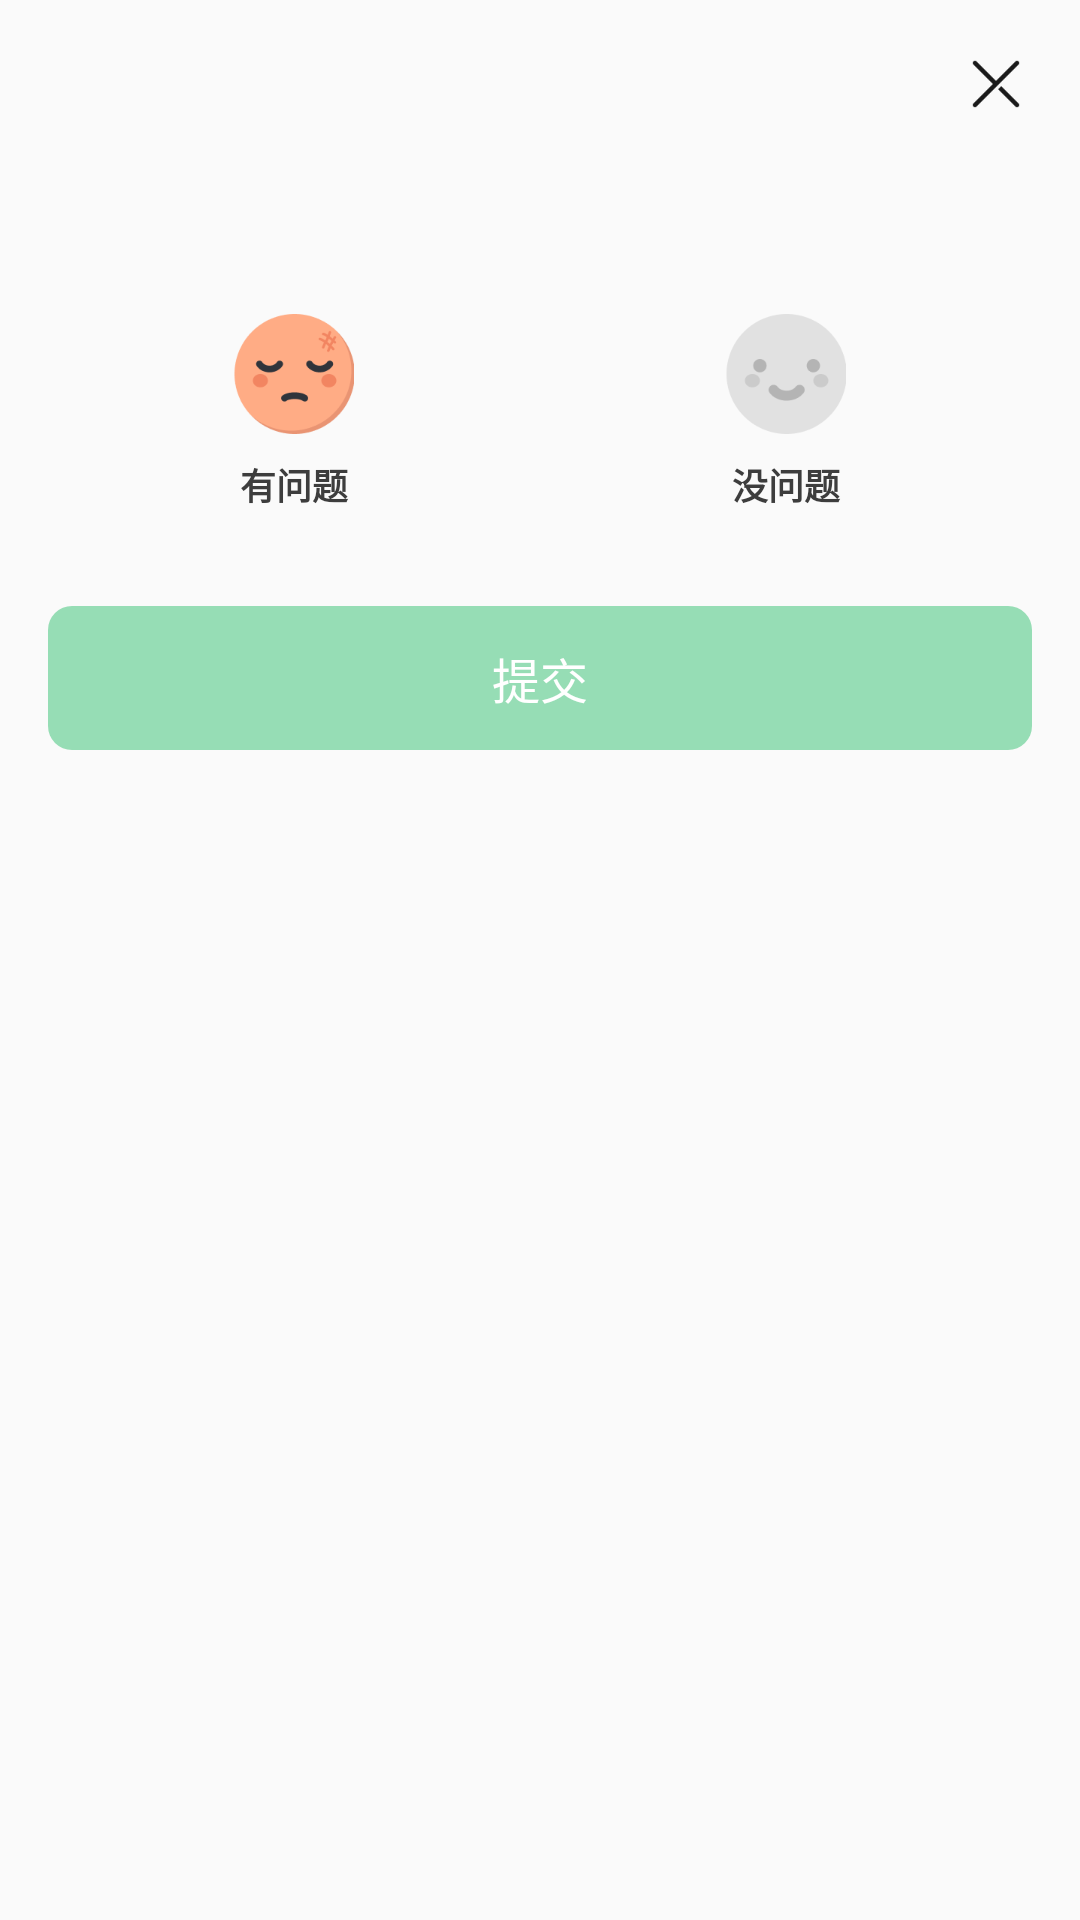

Screen size 1080×1920. Icon name, then its box in pixels as (x1, y1, x2, y2):
close: (972, 60, 1020, 108)
